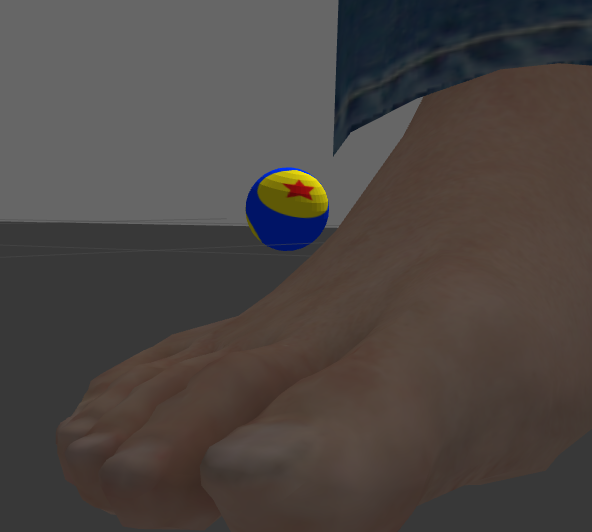toy story ball: (246, 168, 329, 252)
